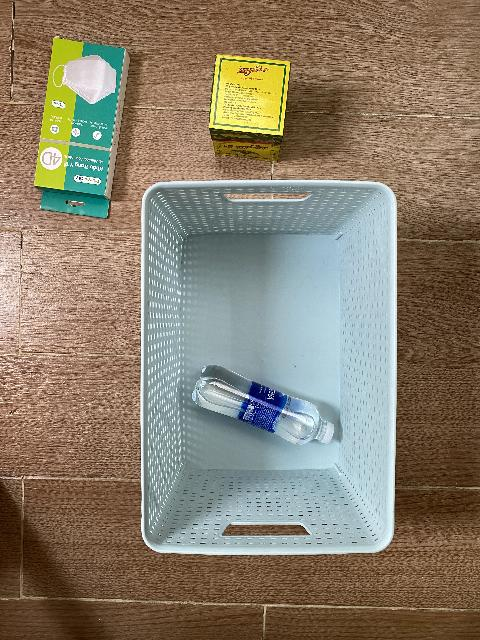4D_medical_face-mask: (34, 35, 130, 219)
aquafina: (191, 365, 335, 446)
cart: (140, 180, 398, 557)
luong_kho: (209, 53, 290, 163)
